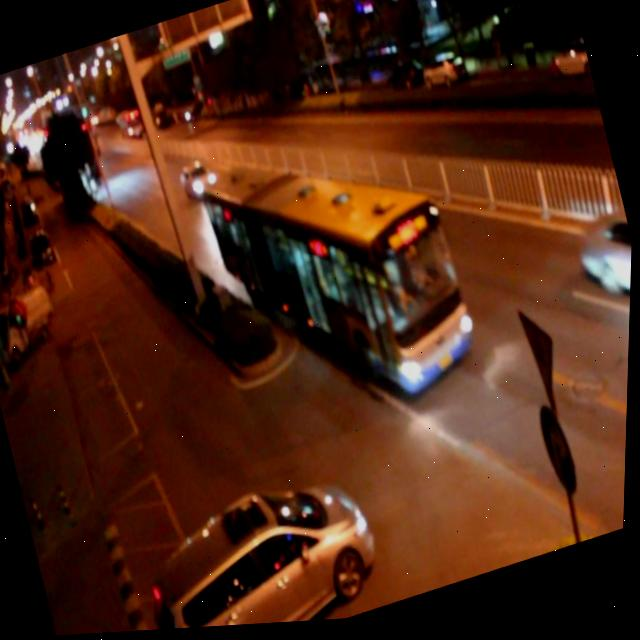car: (136, 462, 393, 633), (575, 214, 634, 338), (177, 158, 220, 206)
van: (196, 116, 488, 449)
